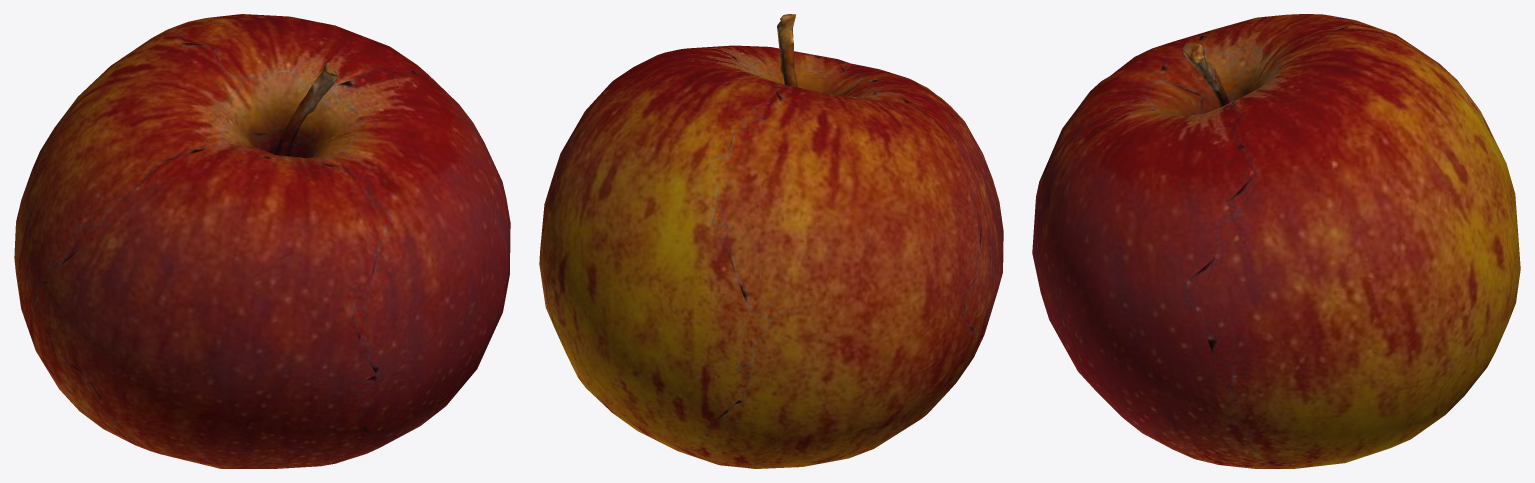
Rendered from food_apple_01.lod1.glb.
3 views of the same model, side by side, from view 1: azimuth 30°, elevation 25°; view 2: azimuth 150°, elevation 25°; view 3: azimuth 270°, elevation 25° (orthographic). The views are drawn at different scales.
Parts seen in each view (by area): view 1: food_apple_01; view 2: food_apple_01; view 3: food_apple_01.
Part boxes in pixels (x1,y1,x2,y2): food_apple_01: (14, 14, 510, 468); food_apple_01: (539, 14, 1003, 468); food_apple_01: (1032, 14, 1520, 468).
Size of the model in its own units: 0.0969 by 0.0852 by 0.0958.
1 material, 1 textured.
